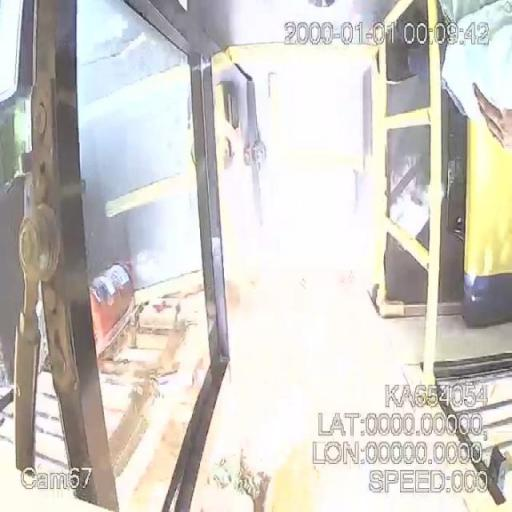persona: (440, 0, 511, 152)
